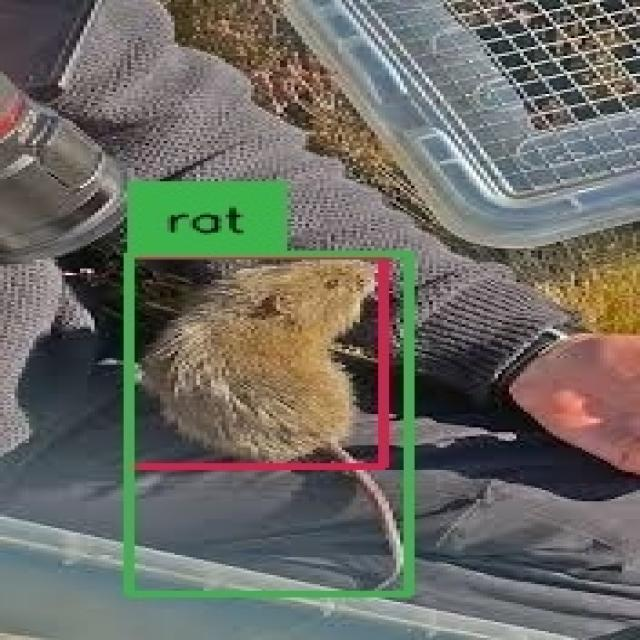rat: (127, 255, 411, 595), (129, 255, 384, 466)
